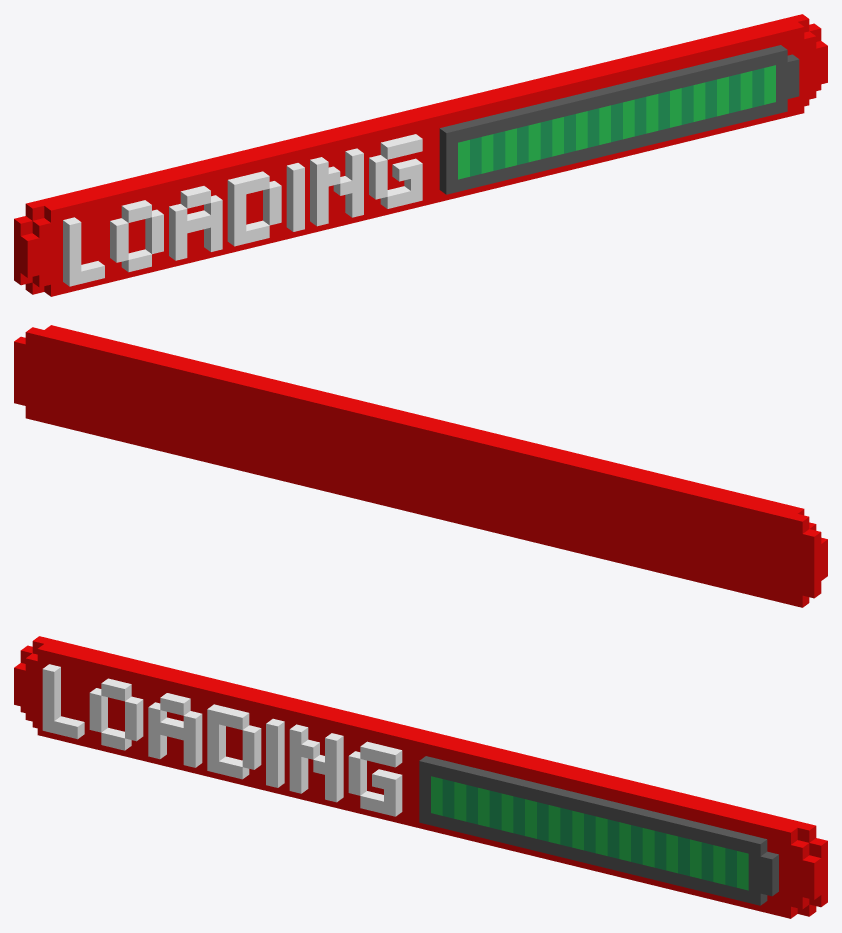
Rendered from loading_8.obj.
The picture shows the model from 3 angles, top to bottom: view 1: azimuth 30°, elevation 25°; view 2: azimuth 150°, elevation 25°; view 3: azimuth 330°, elevation 25°; orthographic projection.
Visible parts, largest first — view 1: loading_8; view 2: loading_8; view 3: loading_8.
Part boxes in pixels (box(x1,y1,x2,y2)): loading_8: box(14, 14, 827, 296); loading_8: box(14, 325, 827, 607); loading_8: box(14, 636, 827, 918).
Bounding box in the file's own units: 68 × 7 × 3.
Materials: 1 (1 with a texture image).
